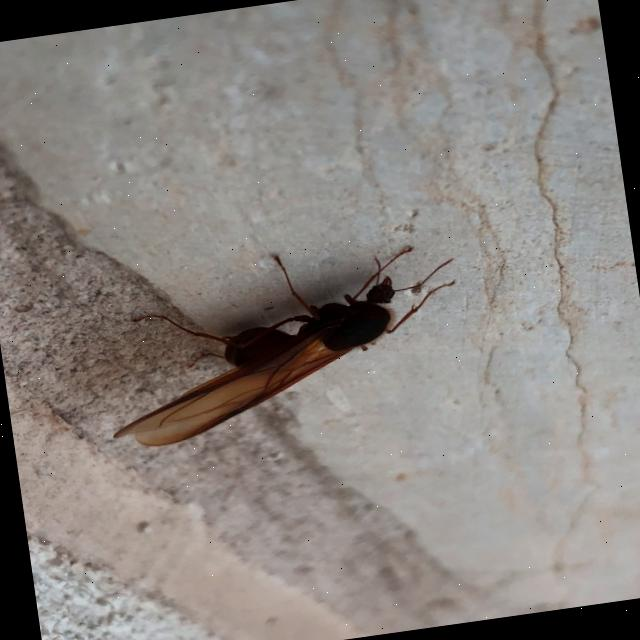Alive-Male-Alate: (90, 230, 474, 452)
